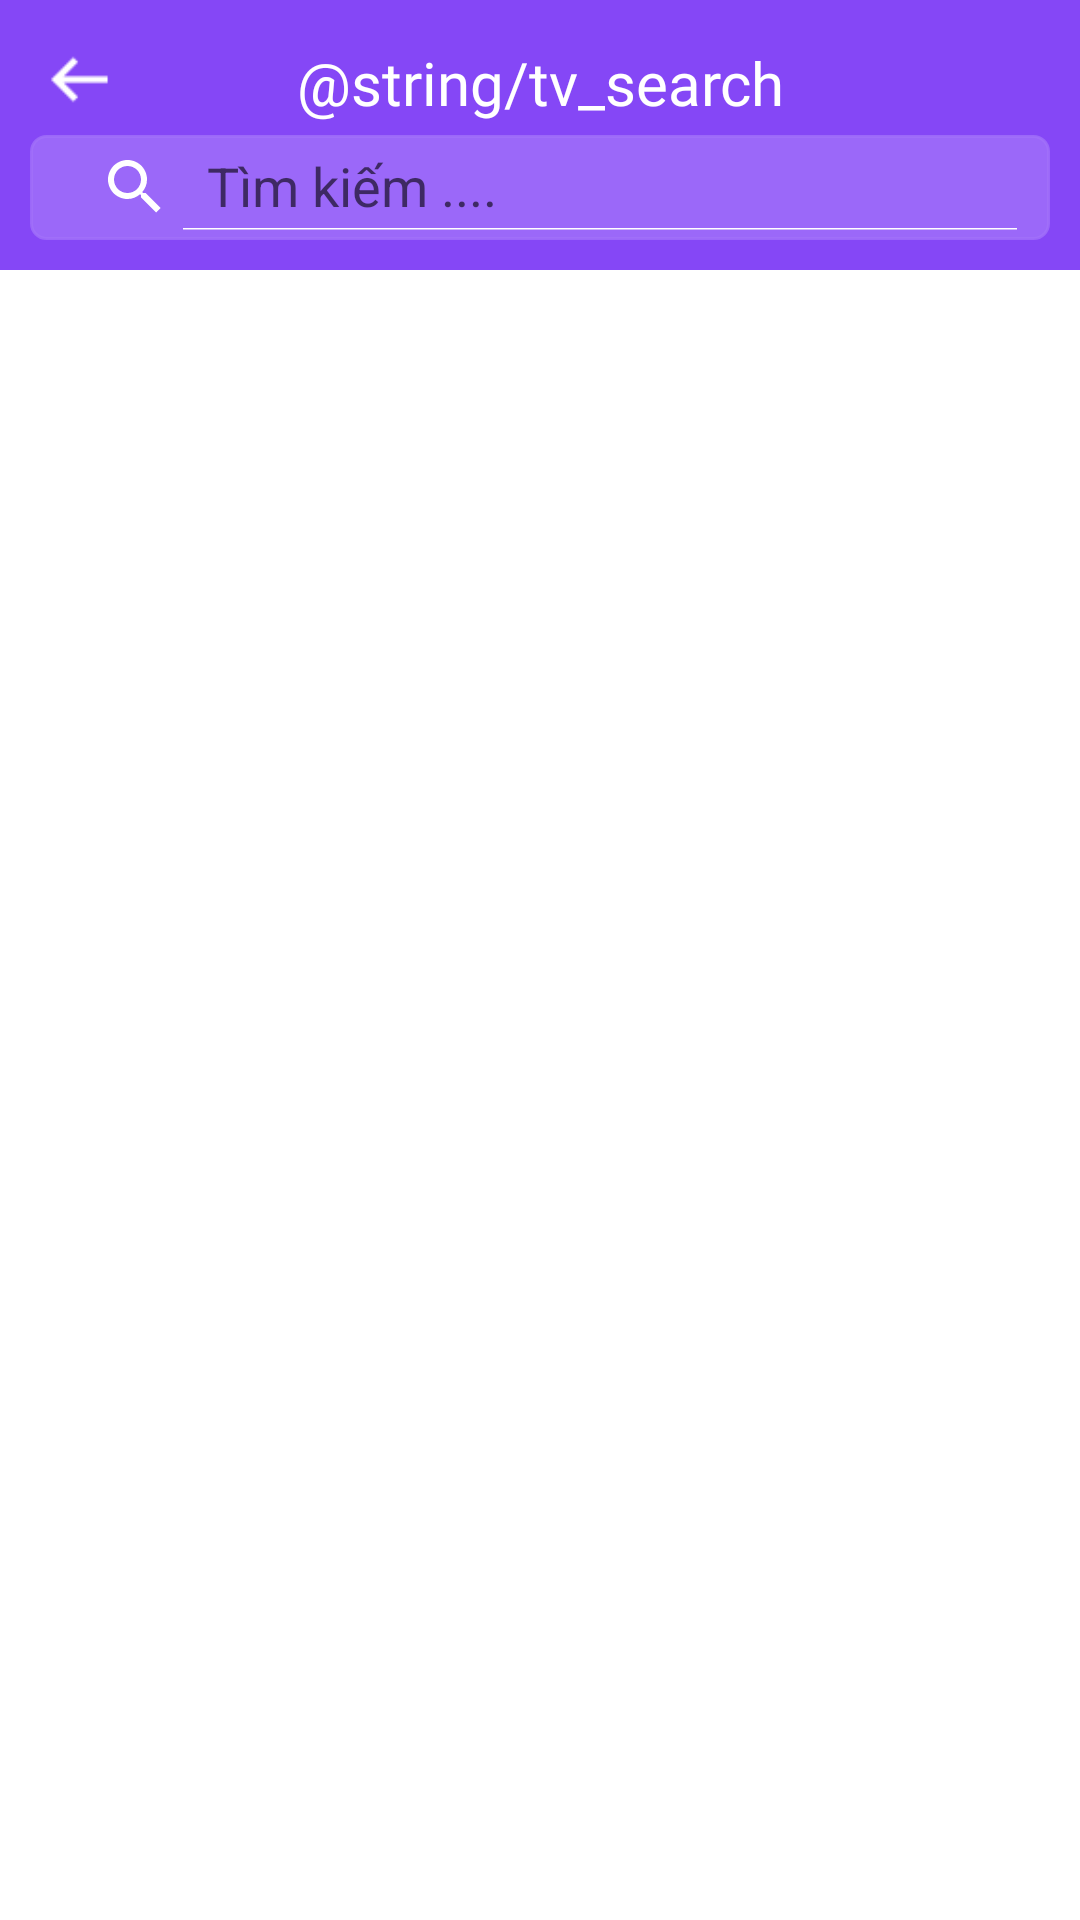

Named icons in this screenshot (1080 × 1920) and their bounding boxes, (x1, y1, x2, y2):
back: (51, 57, 108, 102)
